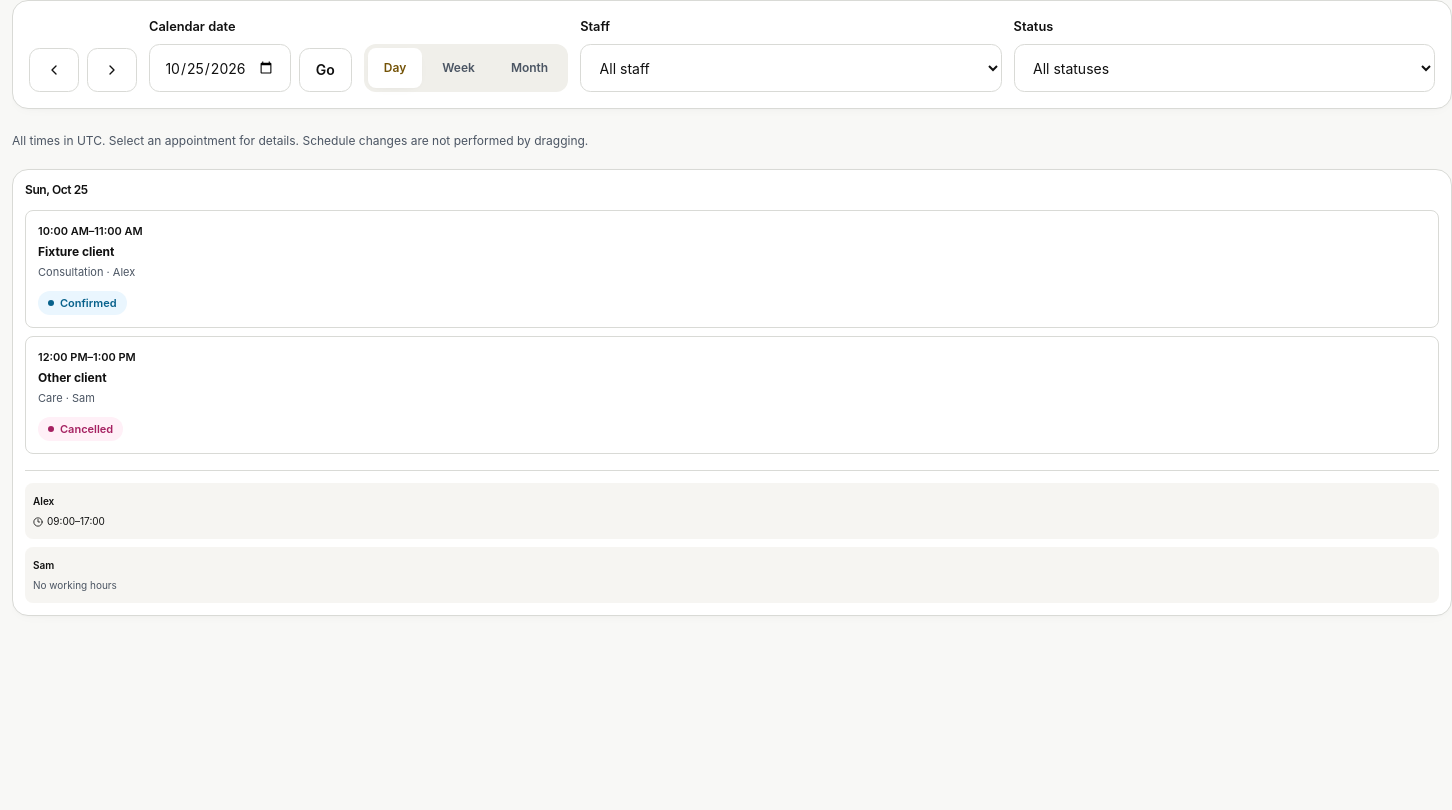
Test: filters resources and status without creating or moving reservations
Select "Alex" in the dropdown labelled "Staff": (791, 68) [580,44,1002,92]
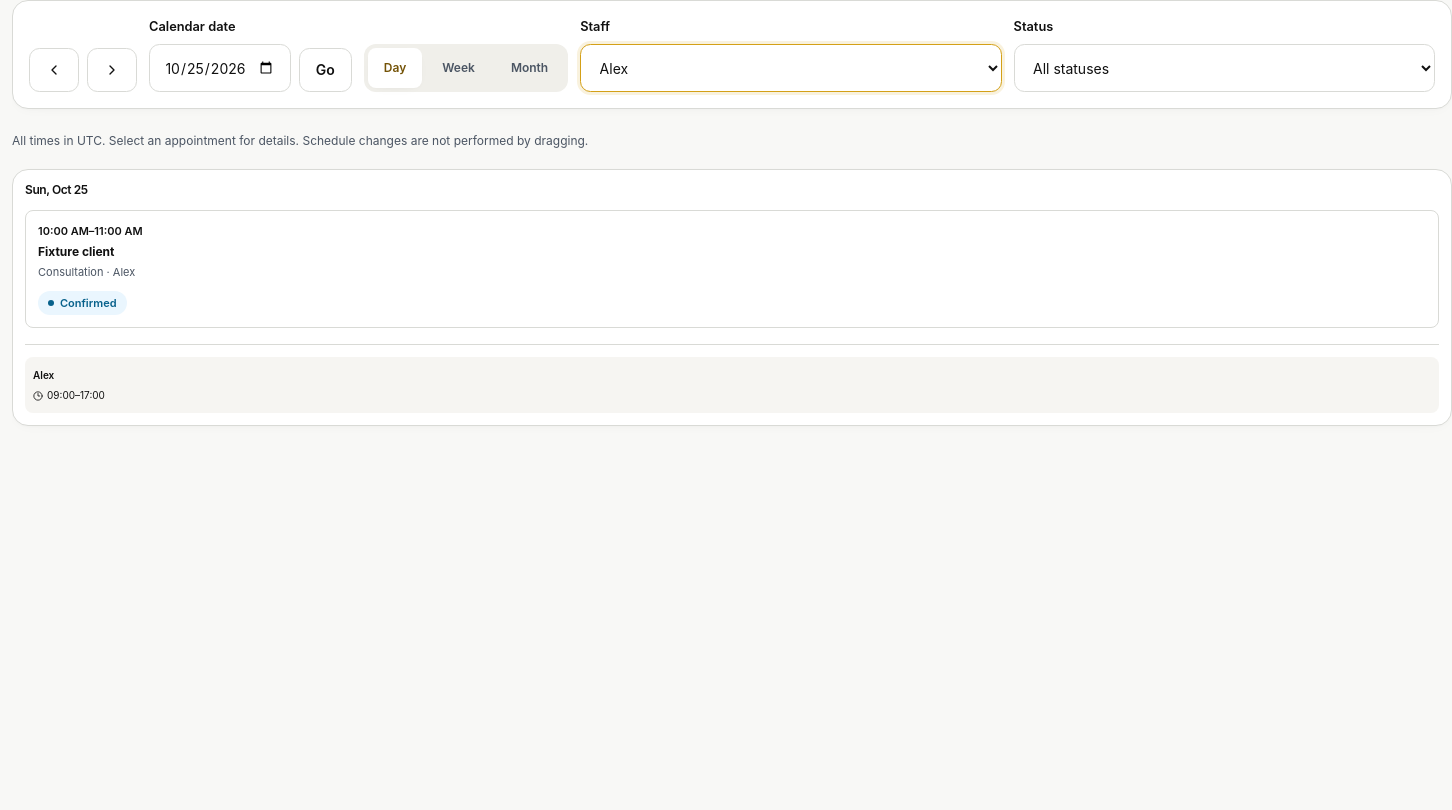
Expected: the button "Other client" is gone
Select "cancelled" in the dropdown labelled "Status": (1224, 68) [1014,44,1435,92]
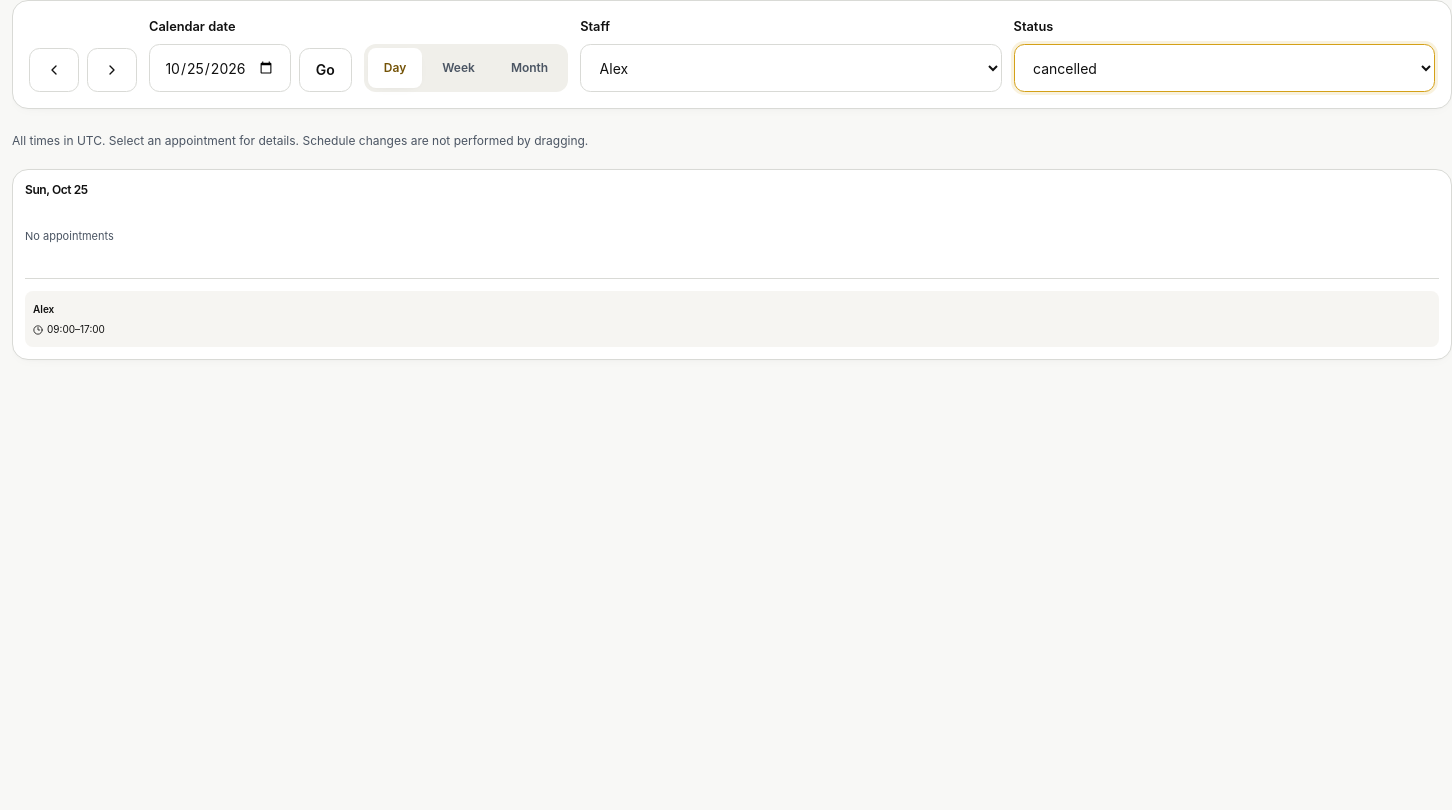
Expected: the text "Schedule changes are not performed by dragging" is shown, [102,133,588,148]
Expected: the button "Fixture client" is gone
